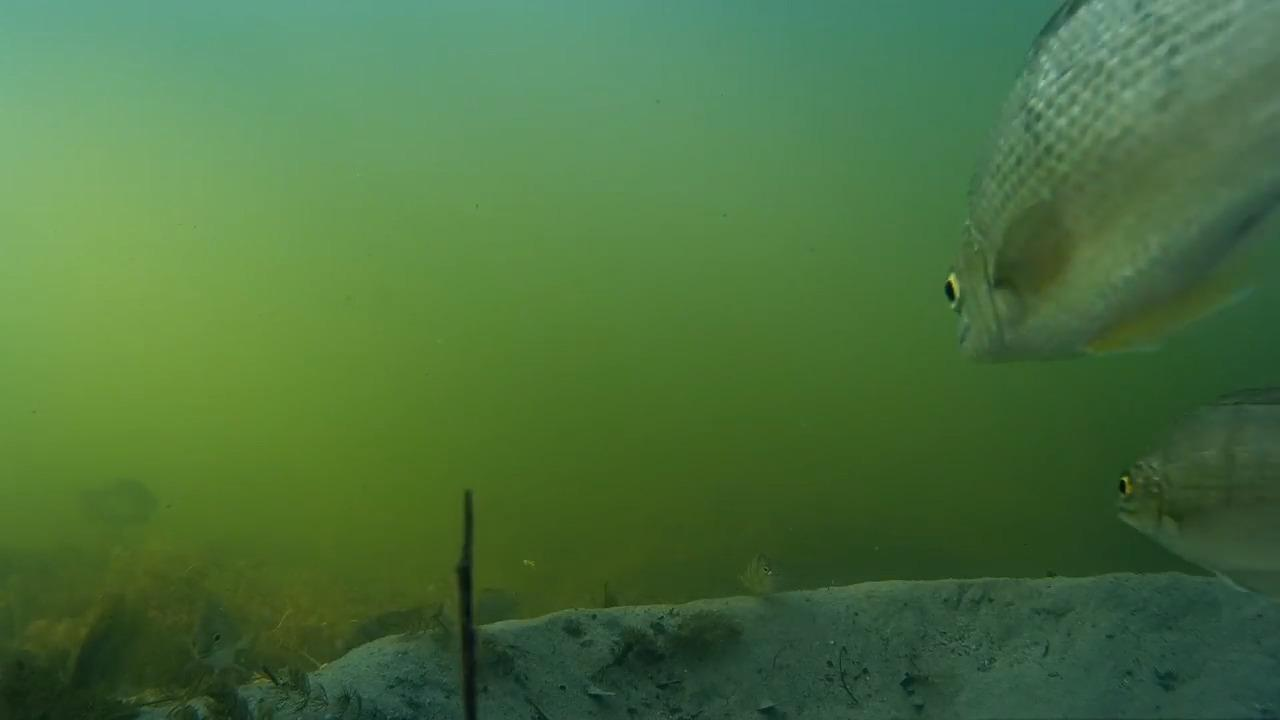Tilapia: (961, 11, 1280, 381), (1104, 389, 1279, 585), (167, 596, 247, 676), (718, 550, 801, 622)
